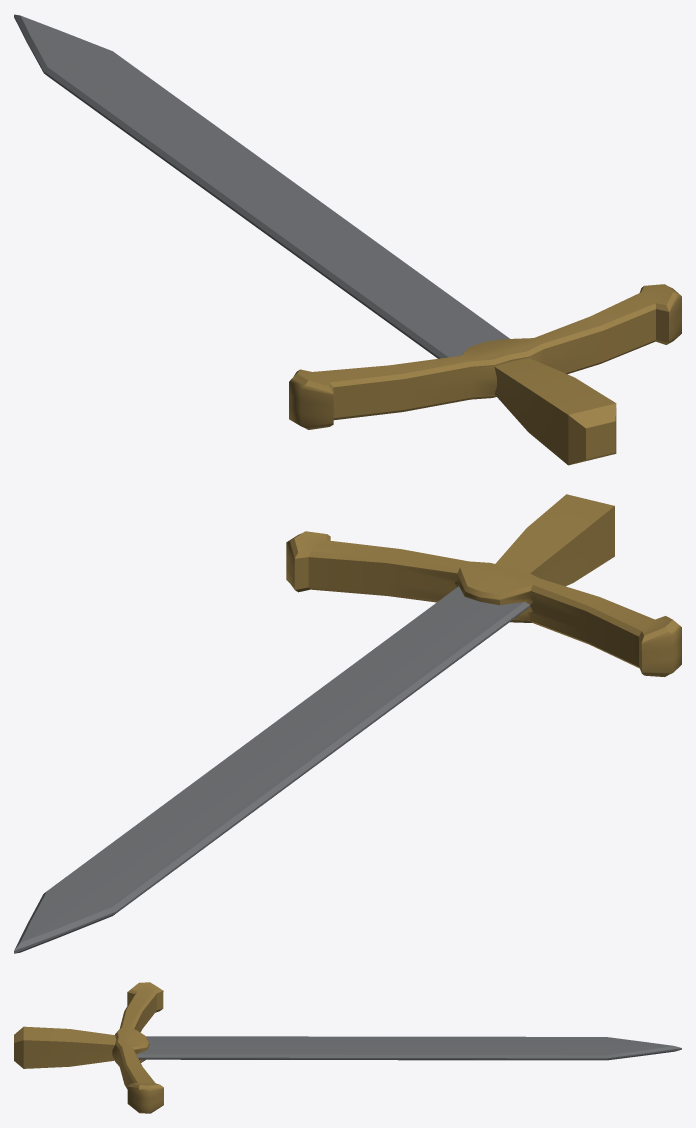
The model's file is wep_sword.fbx.
3 renders of one model, top to bottom at view 1: azimuth 30°, elevation 25°; view 2: azimuth 150°, elevation 25°; view 3: azimuth 270°, elevation 25°, orthographic. The views are drawn at different scales.
Parts seen in each view (by area): view 1: sword; view 2: sword; view 3: sword.
Part boxes in pixels (<box>): sword: <box>14,14,681,465</box>; sword: <box>14,494,681,953</box>; sword: <box>14,982,681,1113</box>.
Size of the model in its own units: 7.98 by 1.01 by 21.01.
